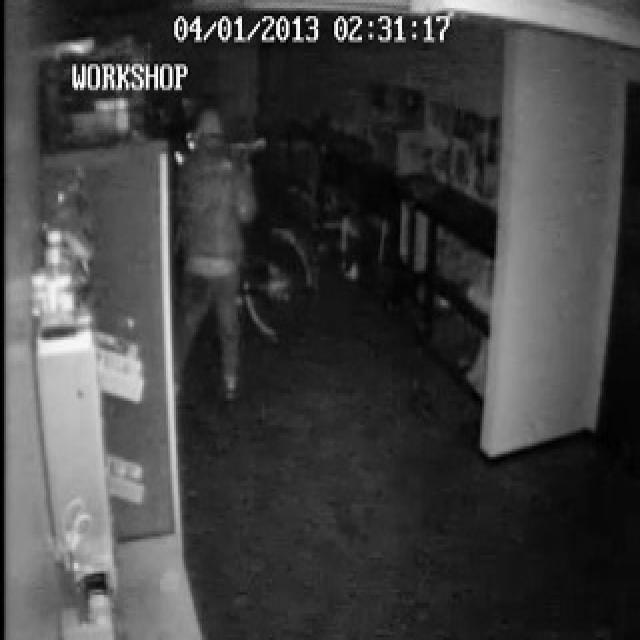thief: (175, 94, 260, 301)
